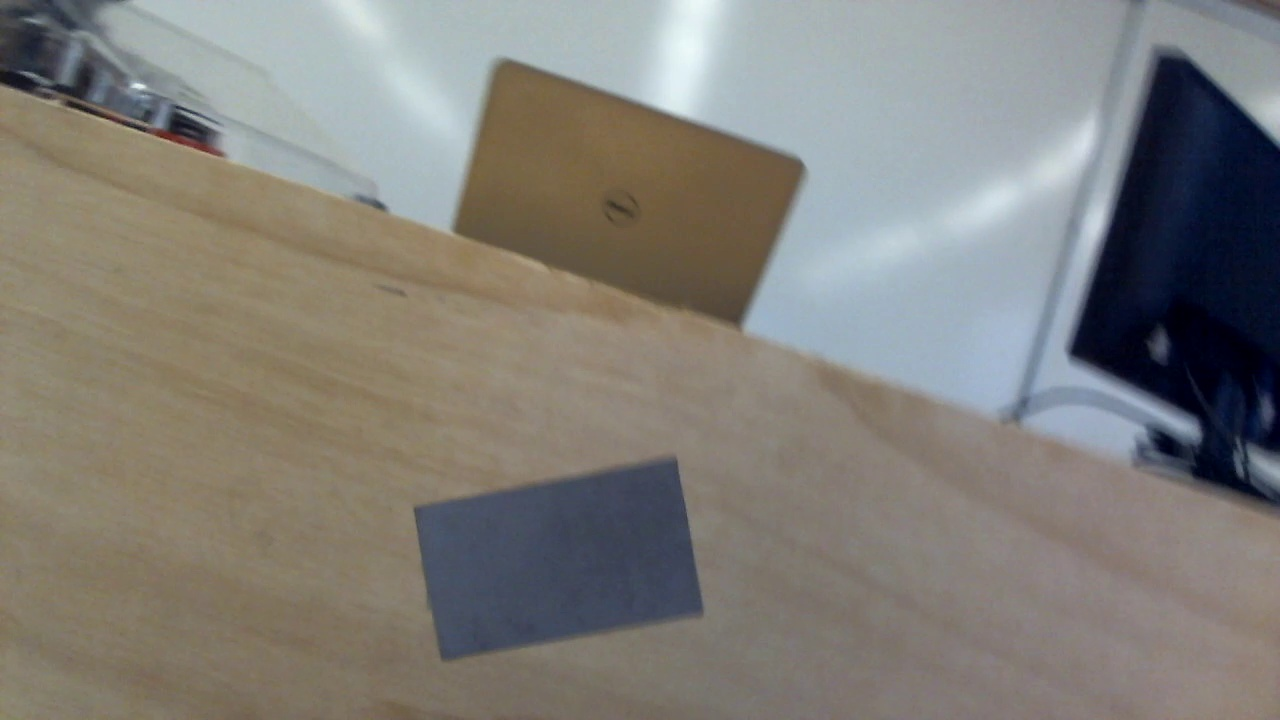Tape: (413, 457, 705, 662)
